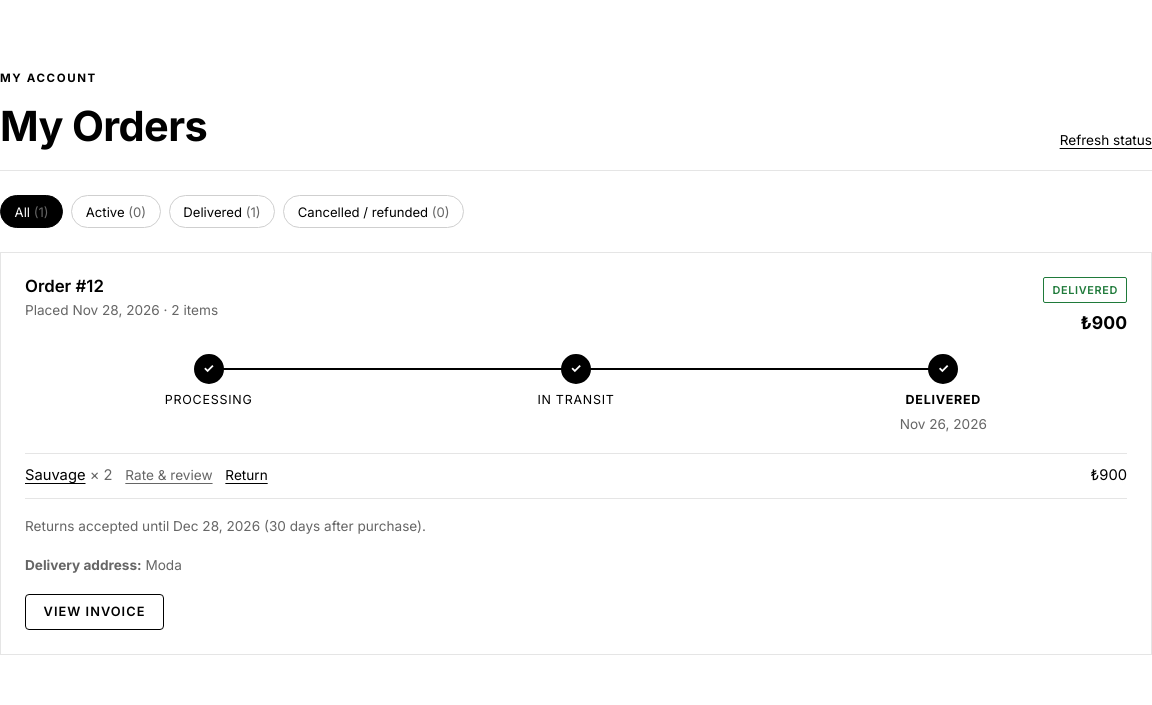
Test case: customer return request (My Orders) › shows the backend message when the request is refused
Click the button "Return": (247, 476) [225,466,268,487]
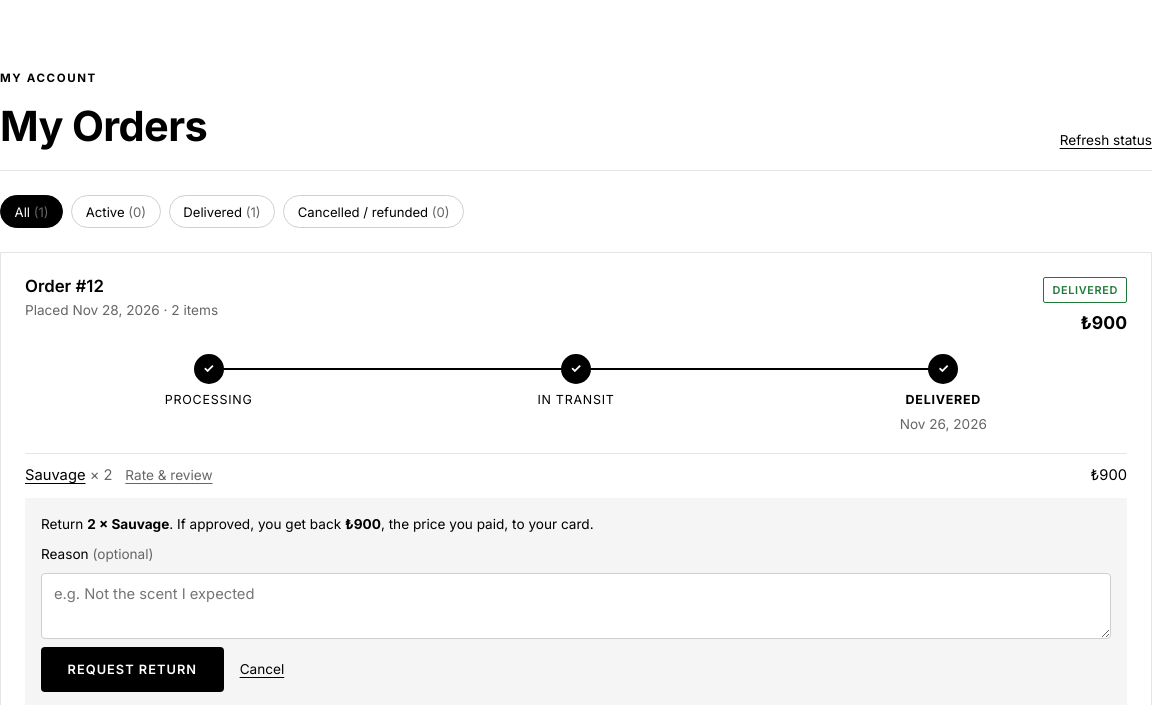
Click the button "Request return": (132, 670) [41,647,224,692]
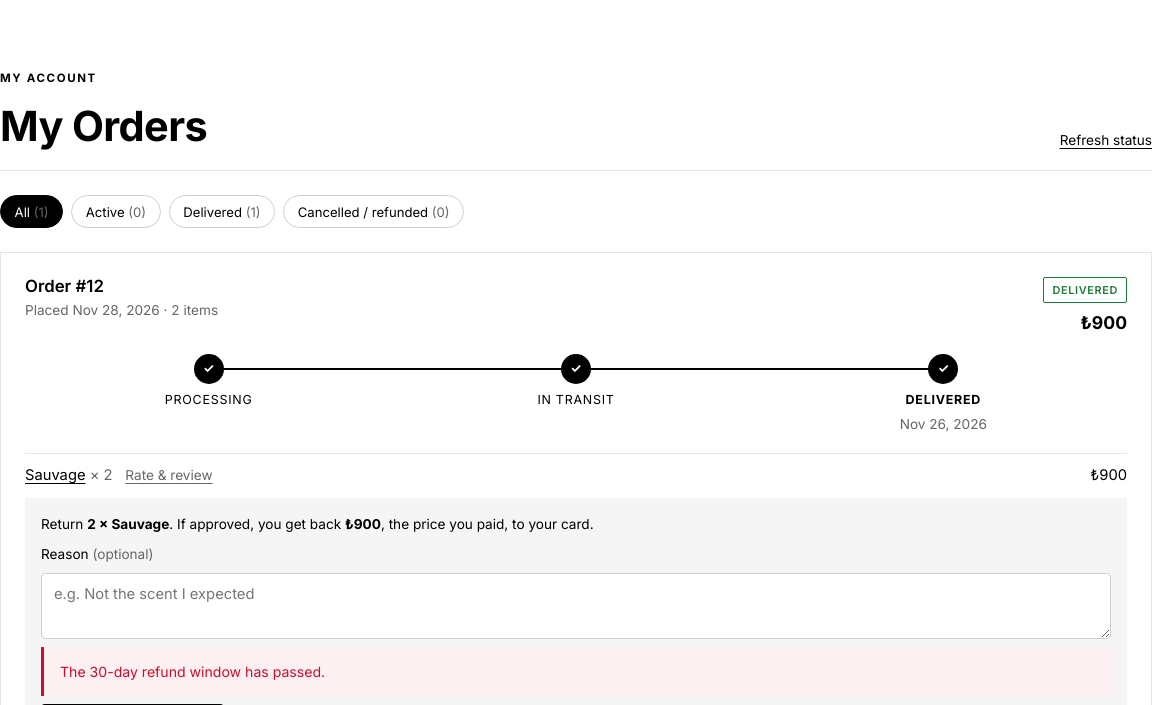
Now the text "The 30-day refund window has passed." is shown, box [41,647,1111,696]
